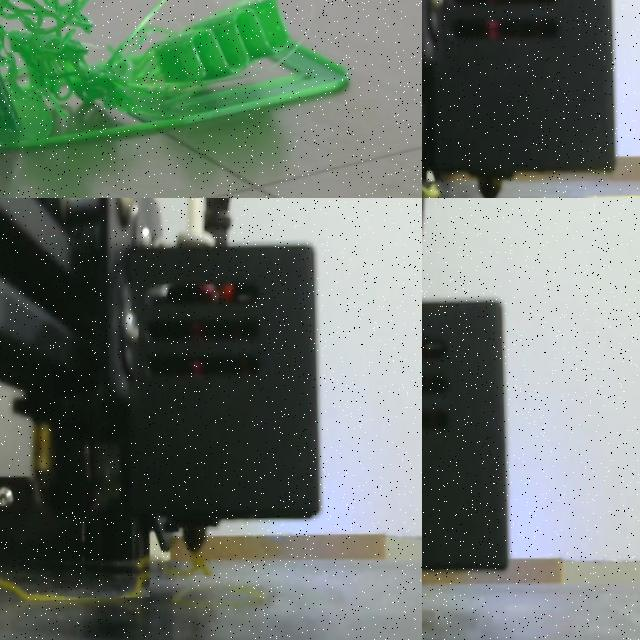spaghetti: (0, 570, 149, 601), (3, 0, 95, 50), (168, 554, 209, 576)
